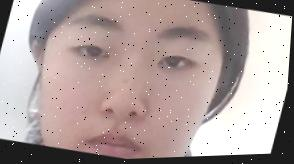eye: (165, 56, 183, 71), (84, 46, 99, 59)
iris: (154, 53, 199, 75), (72, 43, 108, 61)
